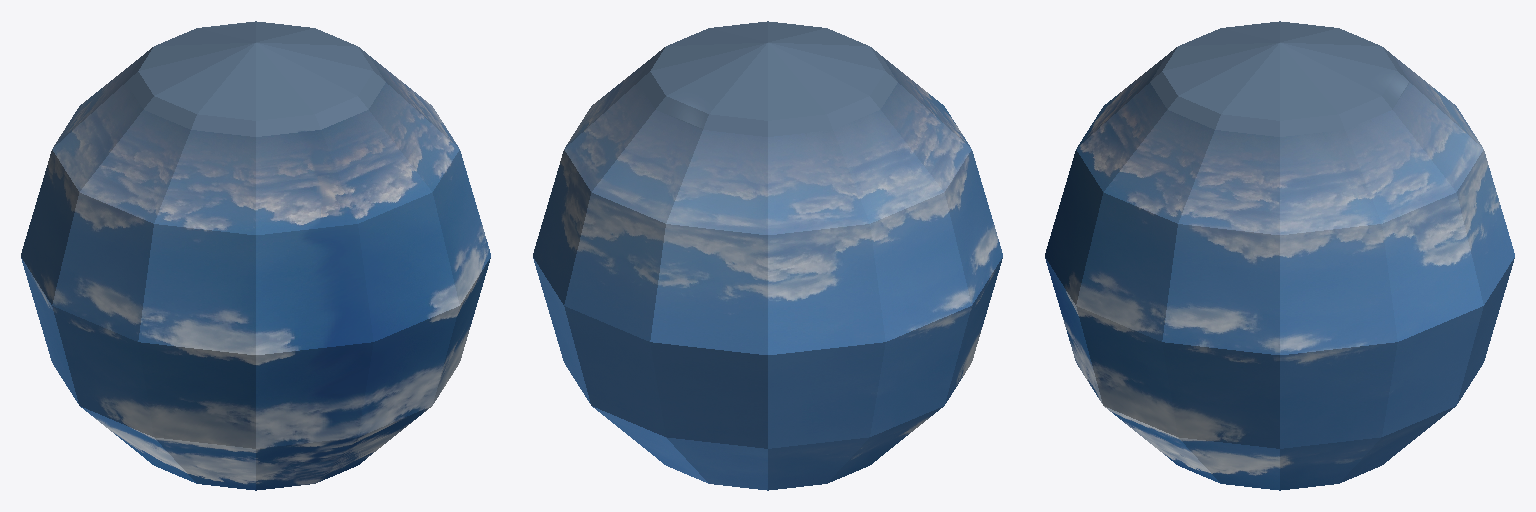
The picture shows the model from 3 angles: view 1: azimuth 30°, elevation 25°; view 2: azimuth 150°, elevation 25°; view 3: azimuth 270°, elevation 25°; orthographic projection.
Parts seen in each view (by area): view 1: Dome; view 2: Dome; view 3: Dome.
Boxes of the visible parts, box(x1,y1,x2,y2) form: Dome: box(21, 21, 490, 490); Dome: box(533, 21, 1002, 490); Dome: box(1045, 21, 1514, 490).
Size of the model in its own units: 20 by 20 by 20.
1 materials, 1 textured.